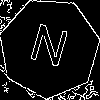N: (24, 23, 72, 76)
